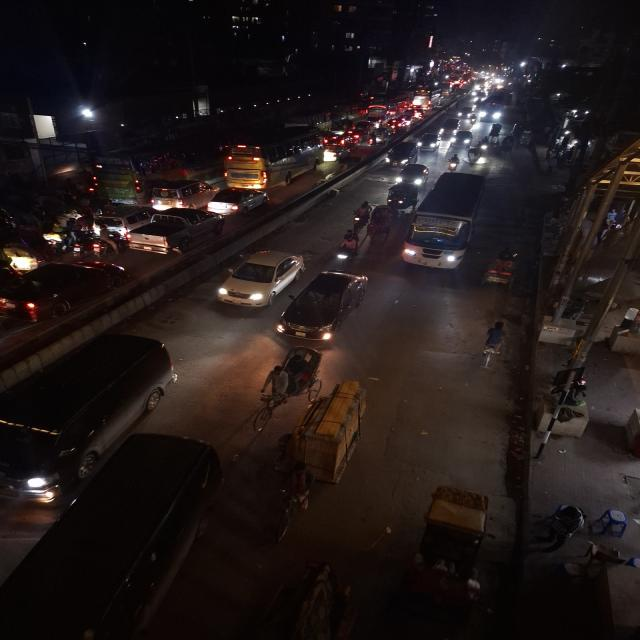bicycle: (480, 319, 505, 374)
bus: (402, 170, 488, 274), (218, 126, 327, 190), (86, 149, 198, 202), (478, 90, 512, 123)
car: (1, 335, 171, 507), (0, 258, 129, 324), (277, 267, 371, 343), (214, 248, 308, 308), (126, 208, 225, 256), (93, 204, 162, 233), (206, 187, 270, 216), (150, 178, 211, 208), (383, 141, 419, 169), (396, 161, 429, 185), (324, 138, 356, 162), (451, 128, 475, 148), (442, 117, 462, 135)
motorcycle: (332, 229, 361, 268), (69, 231, 110, 257), (348, 198, 374, 234), (445, 151, 462, 172)
rickshaw: (275, 373, 373, 535), (409, 482, 497, 618), (253, 344, 324, 430), (480, 247, 523, 290), (0, 241, 42, 270), (487, 121, 505, 142)
